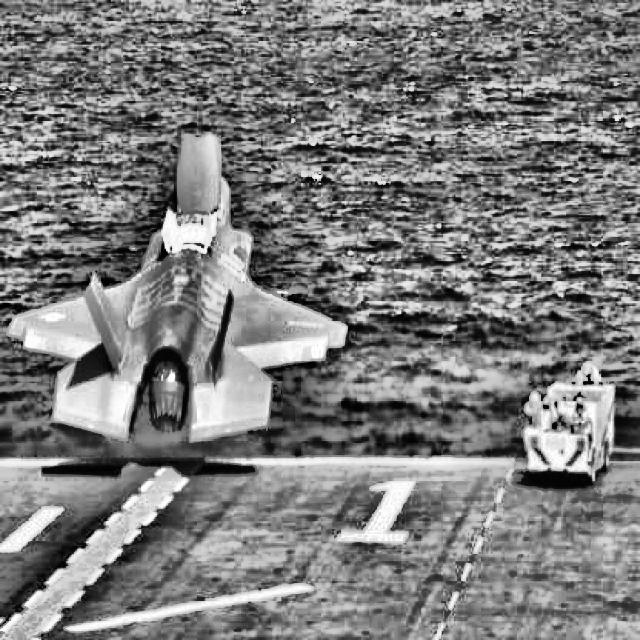F35: (7, 133, 347, 444)
